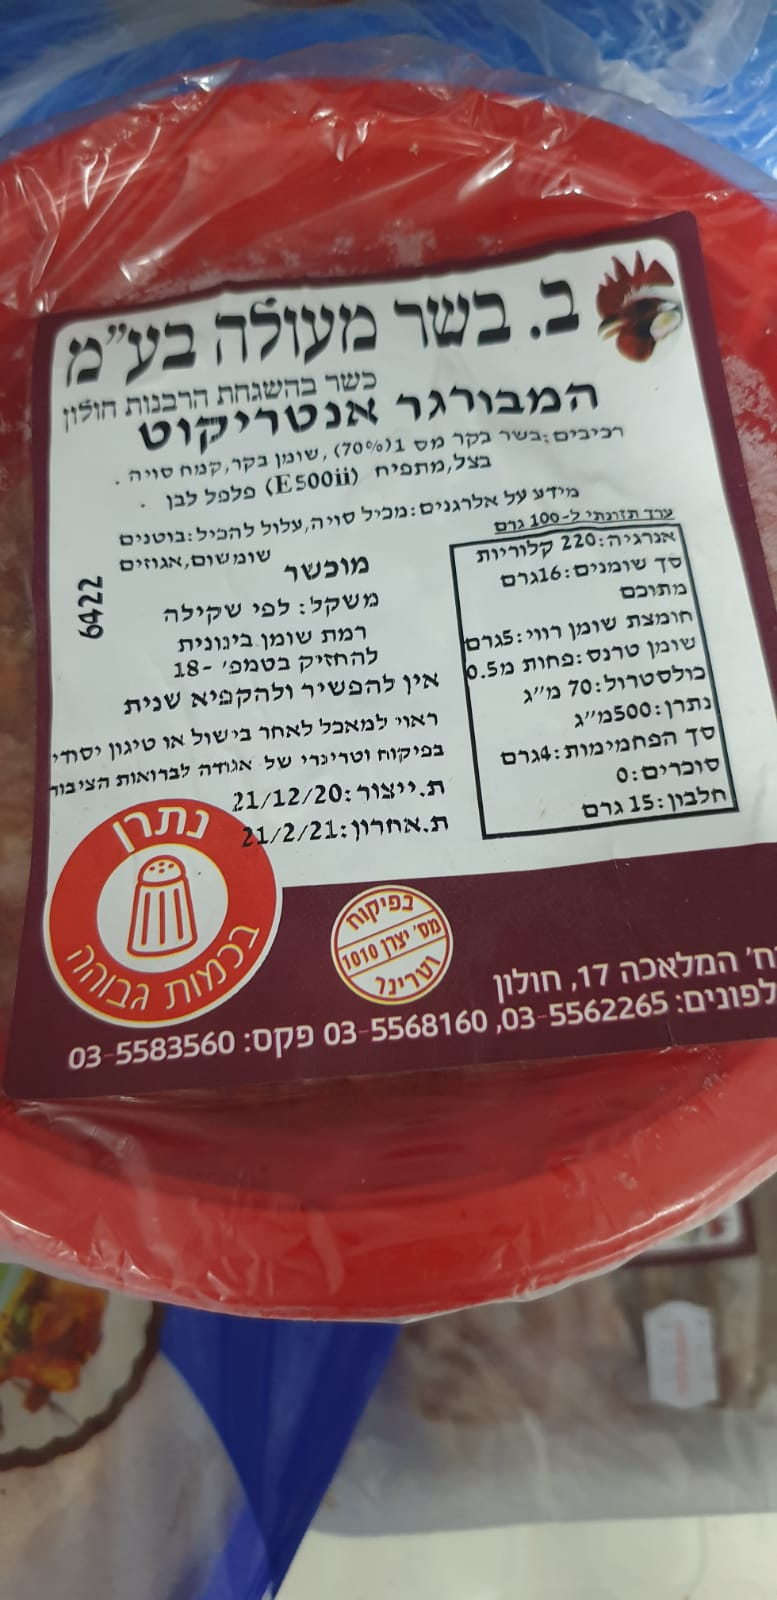salt: (42, 798, 284, 1033)
